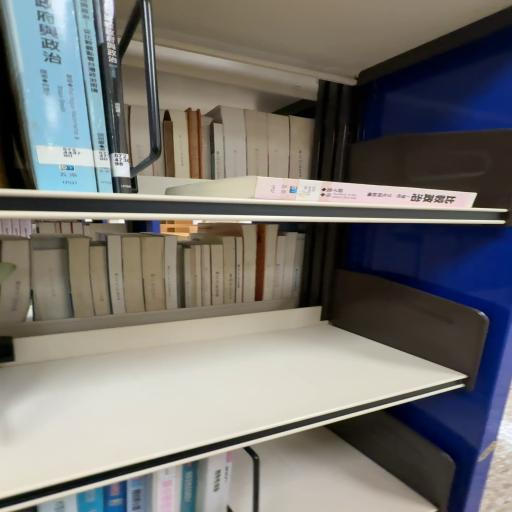flat: (167, 177, 478, 210)
